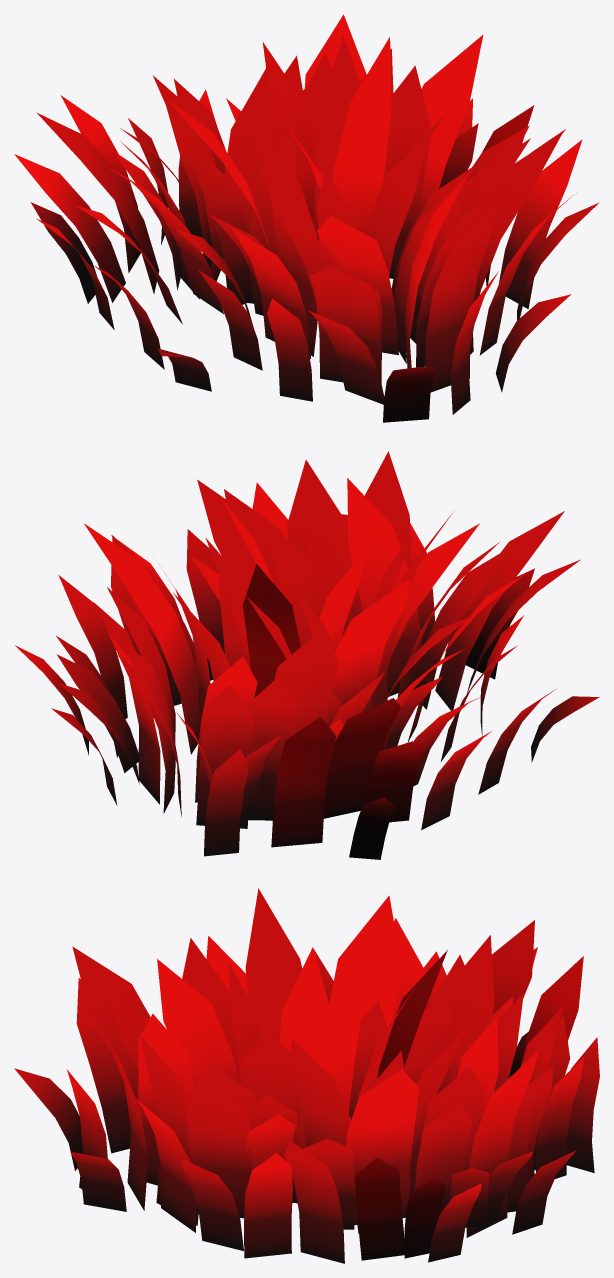
File: MESH_Plant_Grass_02.fbx
3 renders of one model, top to bottom at view 1: azimuth 30°, elevation 25°; view 2: azimuth 150°, elevation 25°; view 3: azimuth 270°, elevation 25°, orthographic.
Parts seen in each view (by area): view 1: MESH_Plant_Grass_02; view 2: MESH_Plant_Grass_02; view 3: MESH_Plant_Grass_02.
Part boxes in pixels (x1,y1,x2,y2): MESH_Plant_Grass_02: [14, 14, 599, 422]; MESH_Plant_Grass_02: [15, 451, 599, 859]; MESH_Plant_Grass_02: [14, 888, 599, 1263].
Size of the model in its own units: 81.32 by 42.89 by 87.92.
